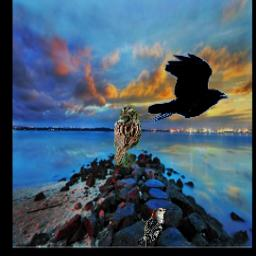Crow: (147, 54, 228, 125)
Sparrow: (114, 106, 143, 167)
Woodpecker: (138, 207, 172, 246)
